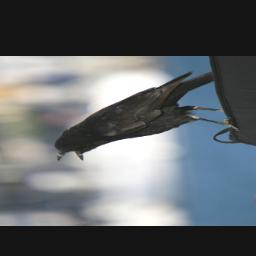Crow: (29, 69, 252, 163)
